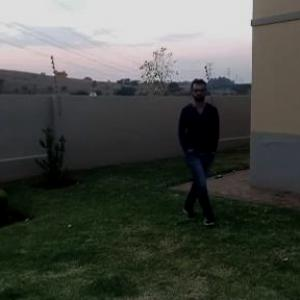follow: (177, 76, 224, 214)
